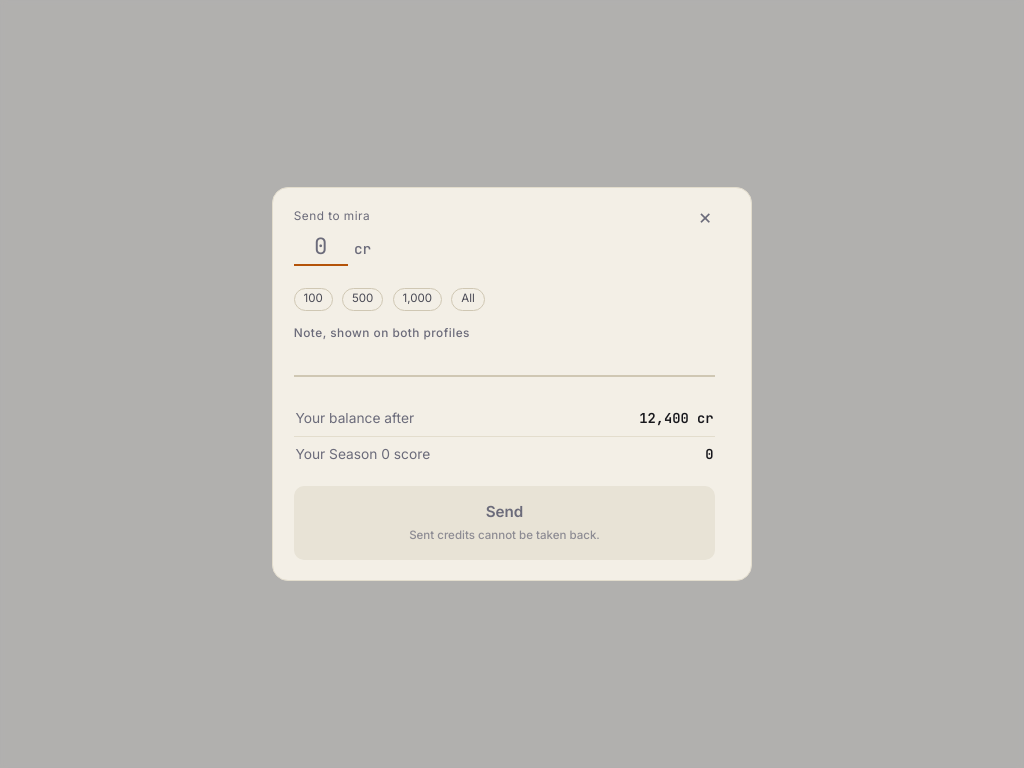
Scenario: the send ticket › THE SEASON COST IS SHOWN WHILE A SEASON RUNS AND THE SENDER IS IN IT
The image size is (1024, 768).
Expected: the text with test id "send-balance-after" reads "12,400 cr", left=639, top=409, right=714, bottom=427
Type "500" into the field named "Amount in credits".
click(321, 248); type("500")  # box left=294, top=230, right=348, bottom=266
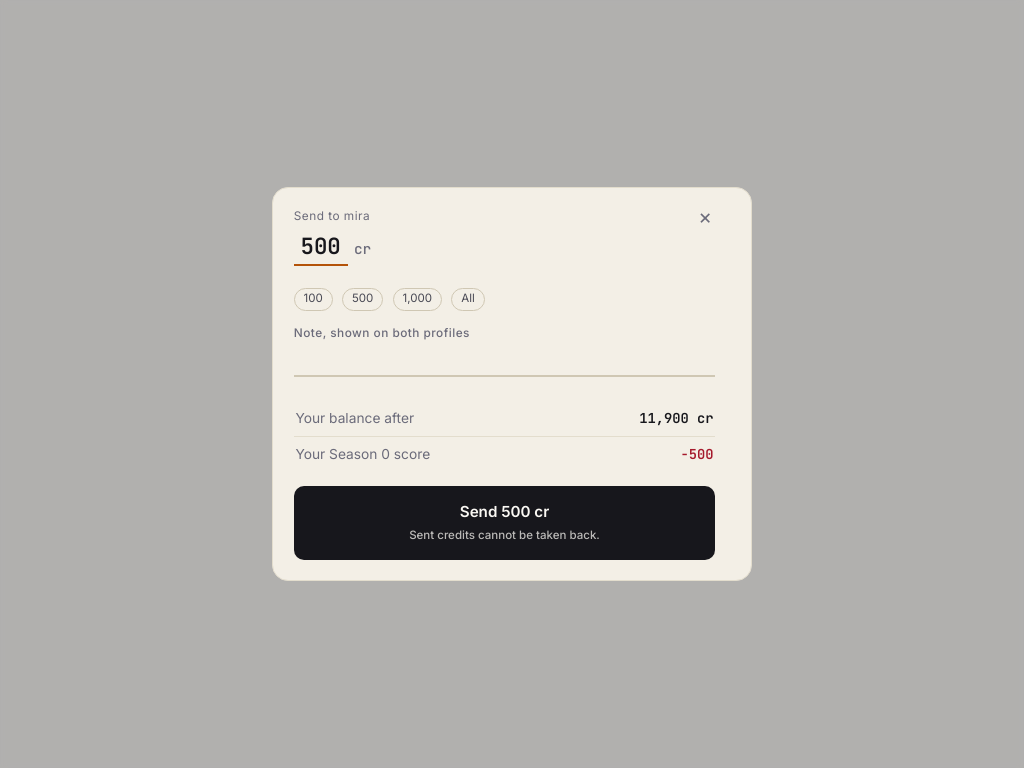
Expected: the text "Your Season 0 score" is shown, left=295, top=444, right=430, bottom=466
Now the text with test id "send-season-cost" reads "-500", box left=681, top=445, right=714, bottom=463
